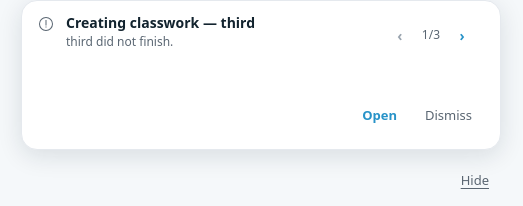
RunningTaskBar › shows one failure at a time and pages through the rest
Expected: the text "third did not finish." is shown, [66, 33, 173, 50]
Expected: the text "first did not finish." is not shown
Click the button named "Older" at (462, 35), box [440, 13, 484, 57]
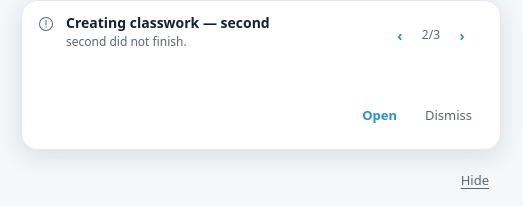
Expected: the text "second did not finish." is shown, [66, 33, 187, 50]
Expected: the text "third did not finish." is gone
Click the button named "Older" at (462, 35), box [440, 13, 484, 57]
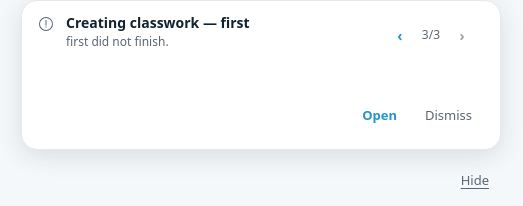
Expected: the text "first did not finish." is shown, [66, 33, 169, 50]
Click the button named "Newer" at (400, 35), box [378, 13, 422, 57]
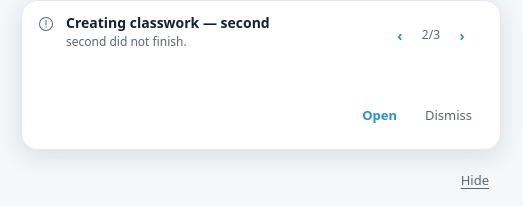
Expected: the text "second did not finish." is shown, [66, 33, 187, 50]
